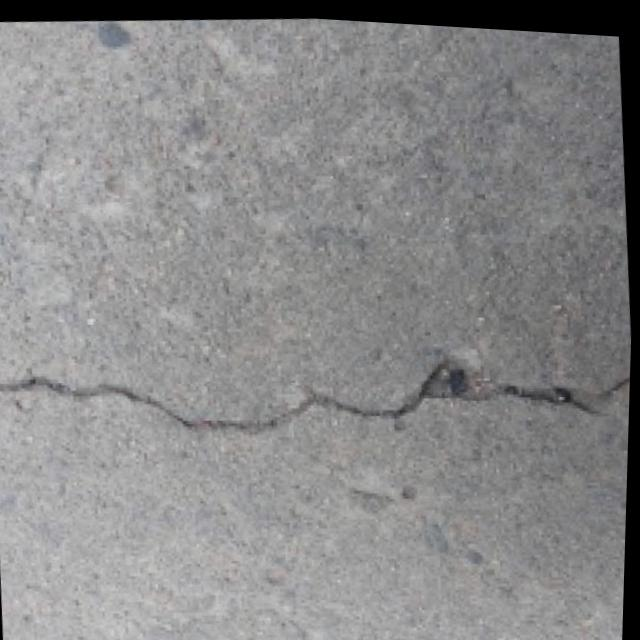Crack: (0, 305, 633, 485)
